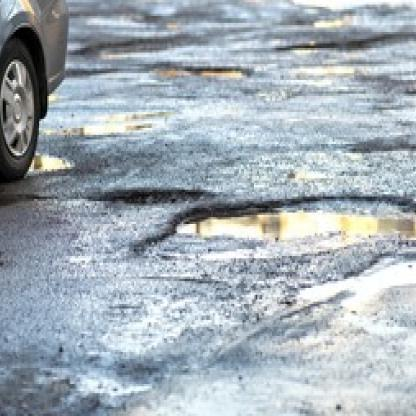pothole: (173, 192, 416, 247), (154, 62, 247, 82)
